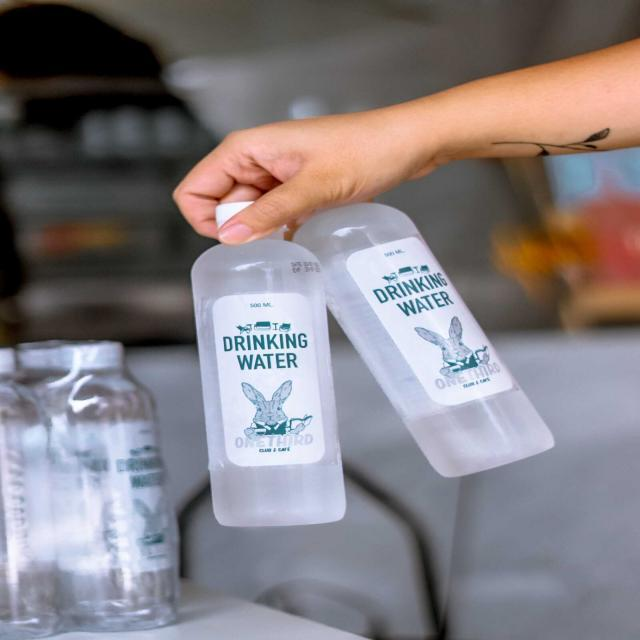plastic_bottle: (291, 199, 555, 478), (190, 202, 347, 528), (48, 339, 179, 634)
